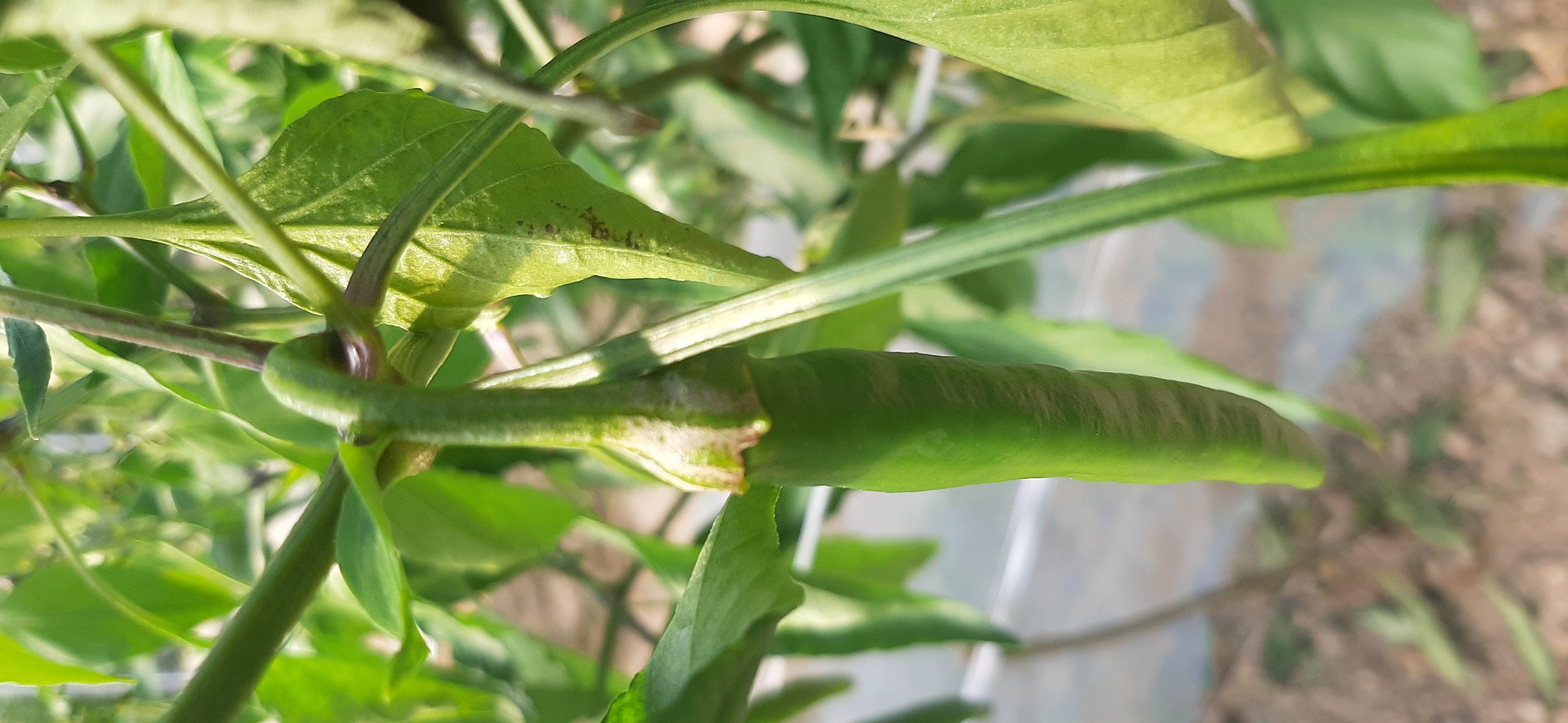Buah Cabai Sehat: (624, 337, 1337, 500)
